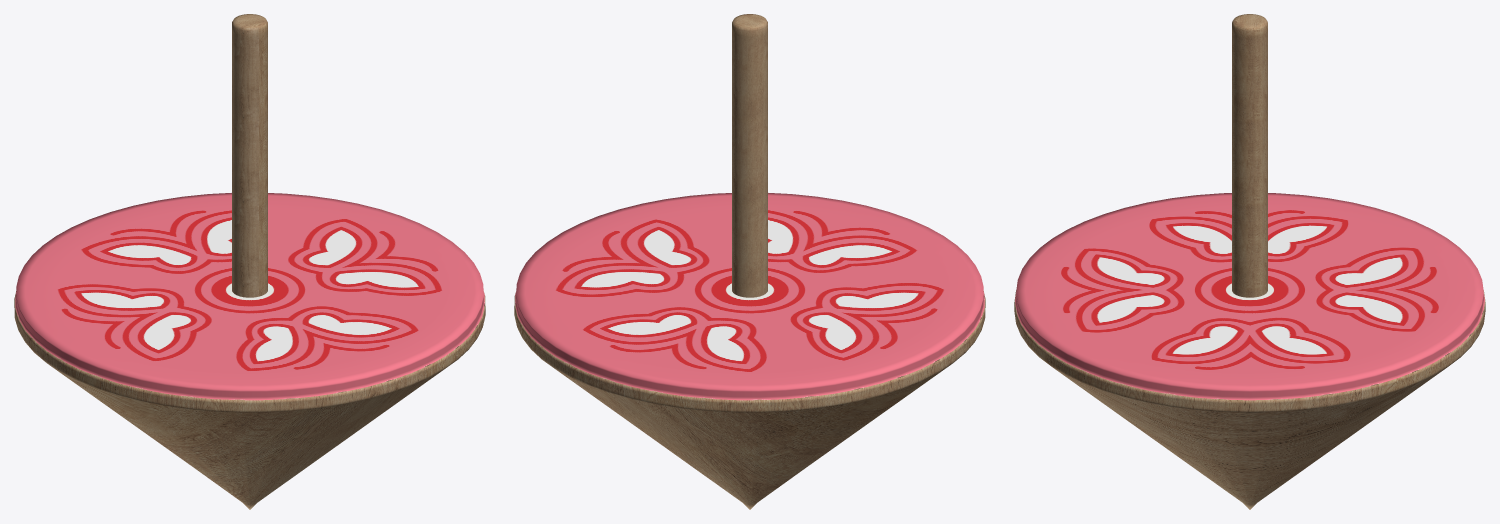
Rendered from M_SpinningTop_11.fbx.
3 views of the same model, side by side, from view 1: azimuth 30°, elevation 25°; view 2: azimuth 150°, elevation 25°; view 3: azimuth 270°, elevation 25° (orthographic).
Parts seen in each view (by area): view 1: Circle028; view 2: Circle028; view 3: Circle028.
Boxes of the visible parts, x1=… form: Circle028: x1=14, y1=14, x2=485, y2=509; Circle028: x1=514, y1=14, x2=985, y2=509; Circle028: x1=1014, y1=14, x2=1485, y2=509.
Bounding box in the file's own units: 7.6 × 8.71 × 7.6.
2 materials, 2 textured.
